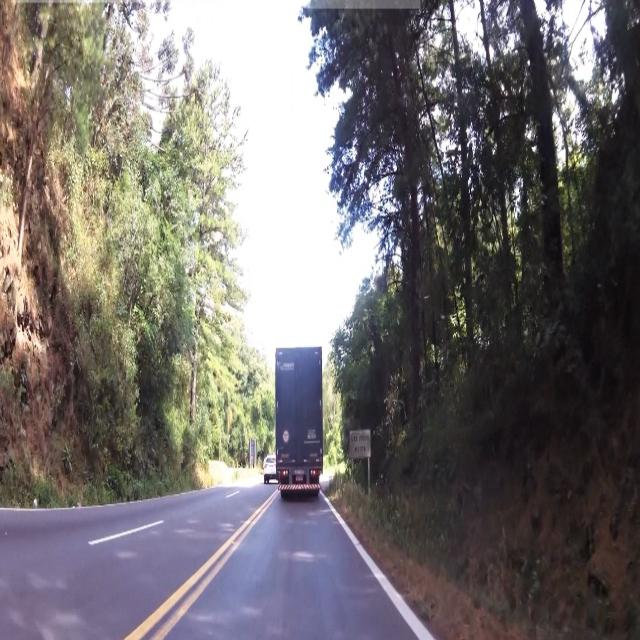E-5: (348, 428, 372, 459)
